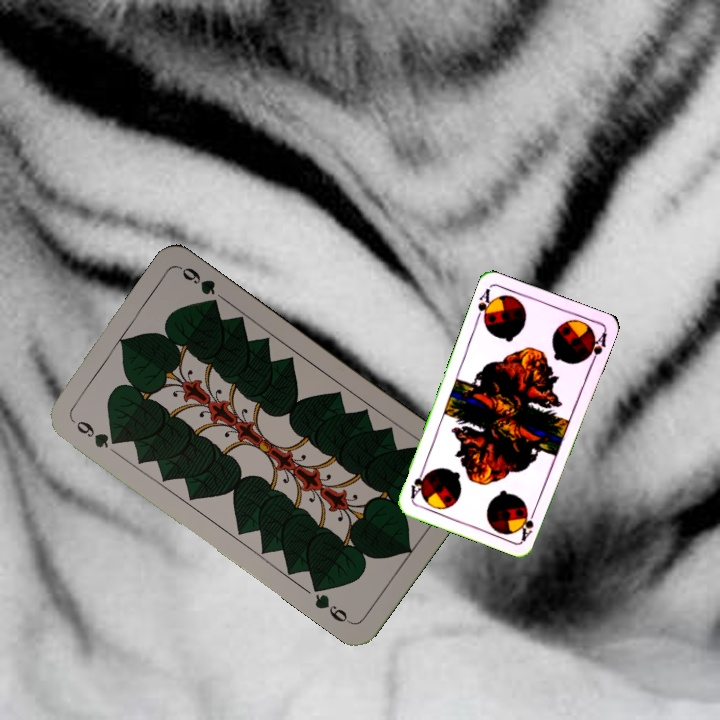G9: (68, 415, 123, 451)
SA: (472, 284, 497, 326), (517, 503, 539, 543)
